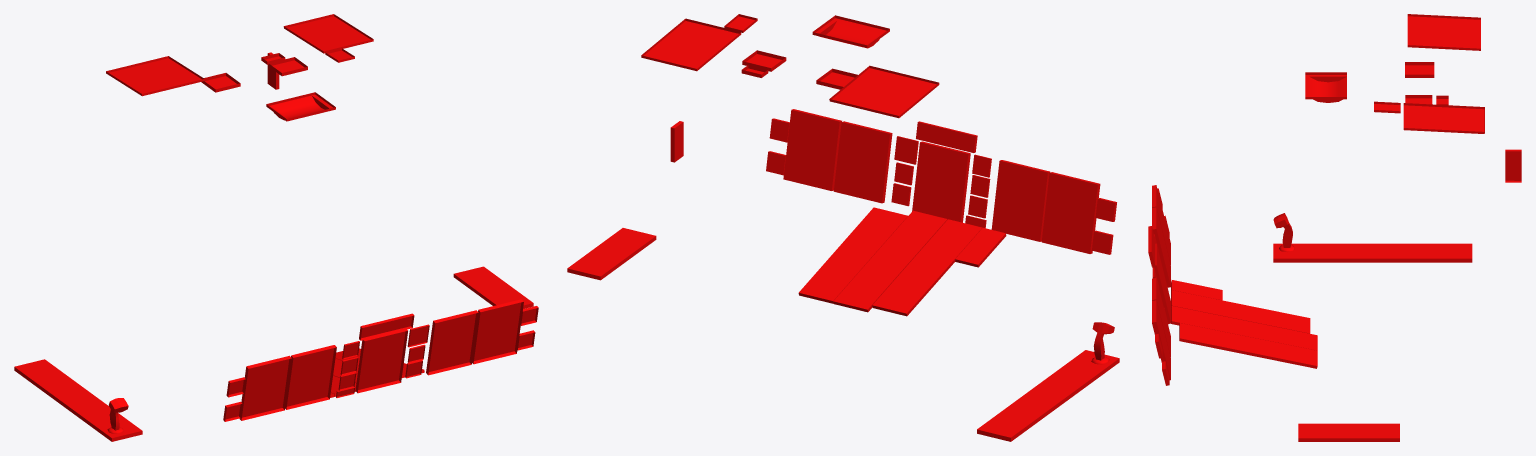
The model's file is 仪表盘lod.fbx.
3 views of the same model, side by side, from view 1: azimuth 30°, elevation 25°; view 2: azimuth 150°, elevation 25°; view 3: azimuth 270°, elevation 25° (orthographic). The views are drawn at different scales.
Visible parts, largest first — view 1: Box648; view 2: Box648; view 3: Box648.
Part boxes in pixels (x1,y1,x2,y2): Box648: (14,14,538,441); Box648: (567,14,1119,441); Box648: (1148,14,1521,441).
Bounding box in the file's own units: 208 × 127 × 152.
